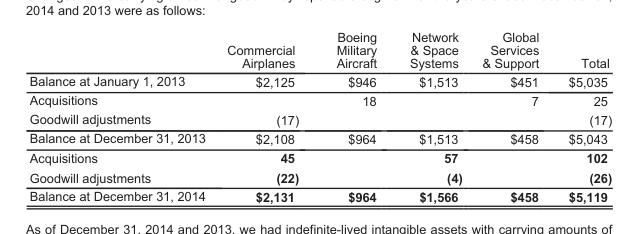table: (28, 29, 611, 203)
table column: (28, 29, 215, 203), (215, 29, 316, 203), (471, 29, 553, 203), (392, 29, 471, 203), (316, 29, 392, 203), (553, 29, 611, 203)
table column header: (28, 29, 611, 71)
table row: (28, 29, 611, 71), (28, 147, 611, 167), (28, 71, 611, 90), (28, 90, 611, 109), (28, 109, 611, 128), (28, 128, 611, 147), (28, 167, 611, 186), (28, 186, 611, 203)
